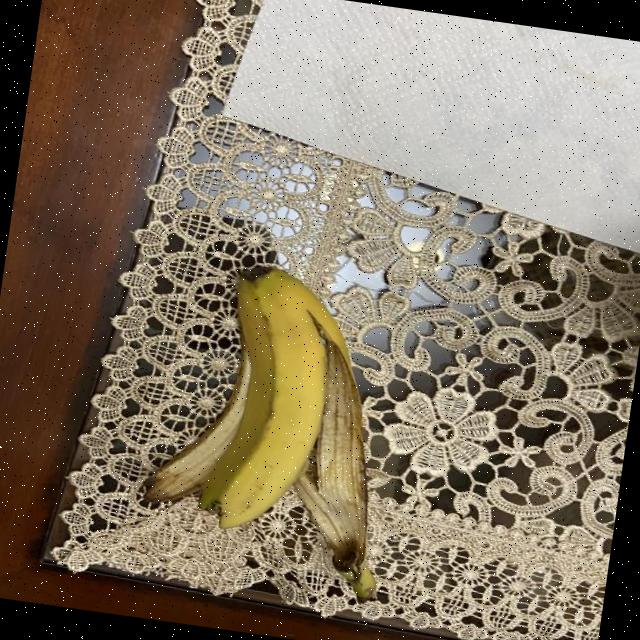banana-peel: (133, 252, 420, 604), (268, 312, 414, 604)
